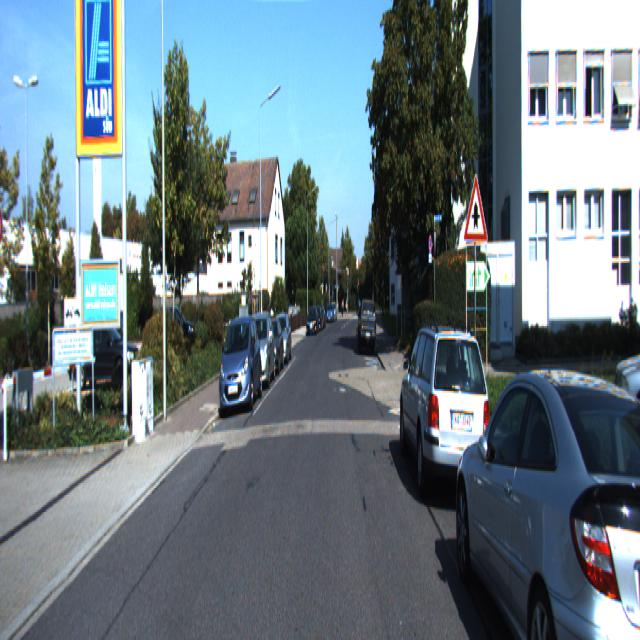Car: (452, 350, 640, 638), (398, 320, 494, 521), (68, 316, 142, 392), (610, 306, 640, 472), (217, 314, 263, 415), (242, 309, 276, 392), (259, 317, 285, 376), (269, 313, 293, 366), (357, 298, 377, 356)
